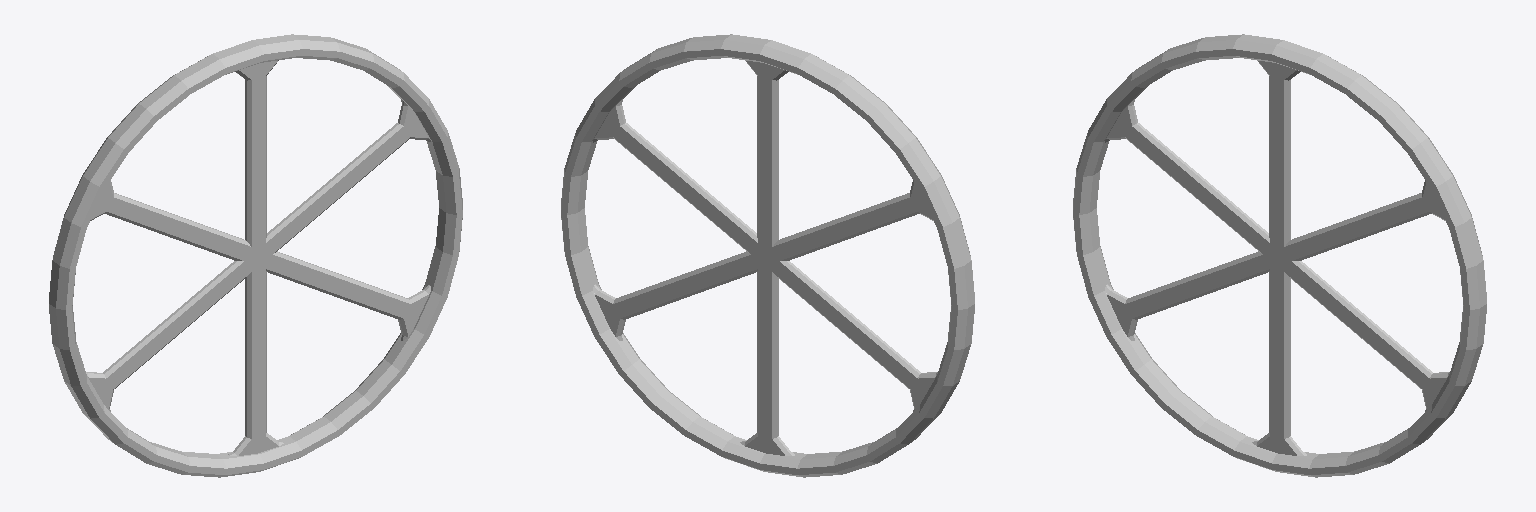
The model's file is WaterPumpWheel.obj.
The picture shows the model from 3 angles: view 1: azimuth 30°, elevation 25°; view 2: azimuth 150°, elevation 25°; view 3: azimuth 330°, elevation 25°; orthographic projection.
Visible parts, largest first — view 1: WaterPumpWheel WaterPumpPARTS_TOENGINE; view 2: WaterPumpWheel WaterPumpPARTS_TOENGINE; view 3: WaterPumpWheel WaterPumpPARTS_TOENGINE.
Part boxes in pixels (bbox=[...]): WaterPumpWheel WaterPumpPARTS_TOENGINE: bbox=[49, 34, 462, 477]; WaterPumpWheel WaterPumpPARTS_TOENGINE: bbox=[561, 34, 974, 477]; WaterPumpWheel WaterPumpPARTS_TOENGINE: bbox=[1073, 34, 1486, 477].
Bounding box in the file's own units: 5.3 × 5.3 × 0.3798.